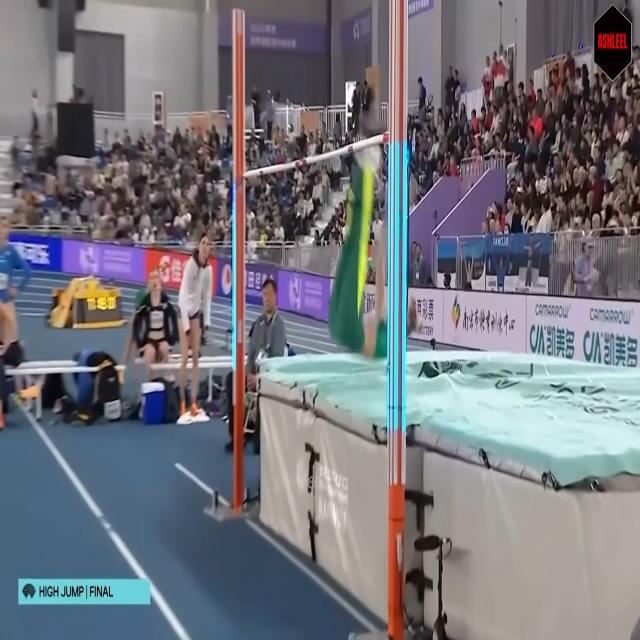land: (329, 69, 421, 358)
